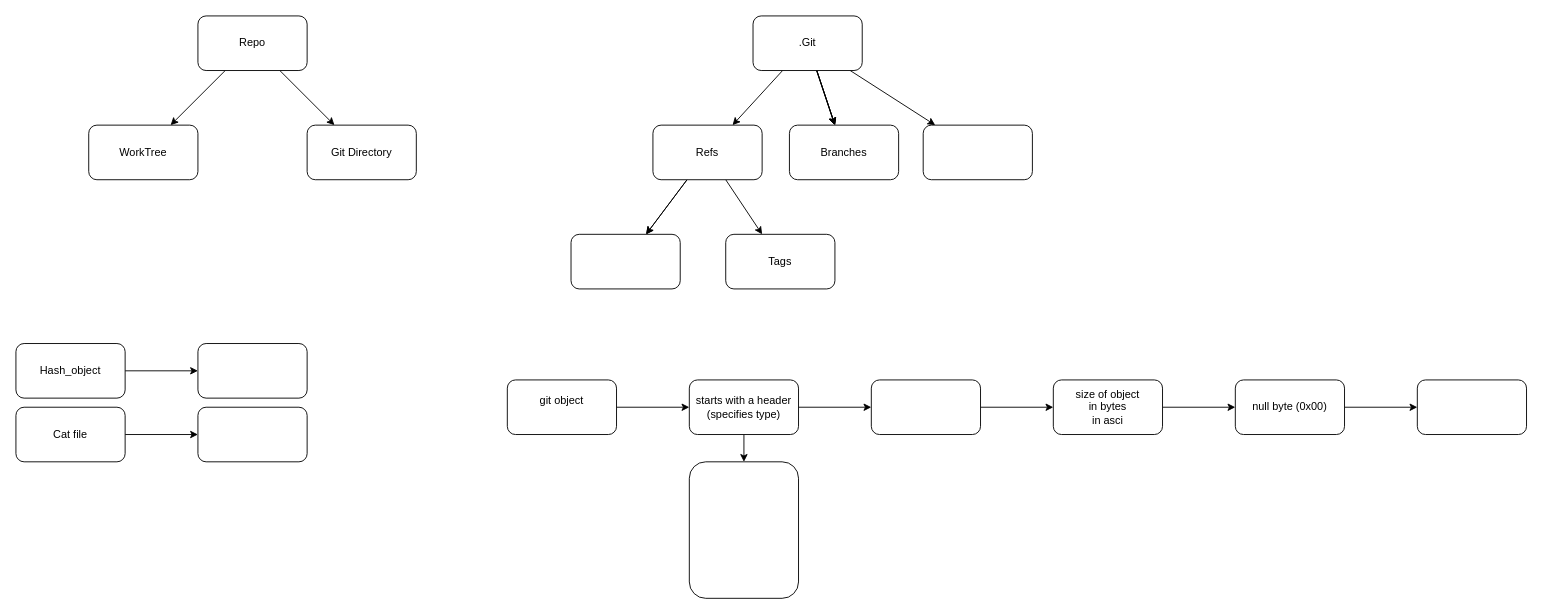
This 1542x614 diagram has some shape labels left out. The centre of each missing label's shape, as x and y in pixels:
"(Type) blob commit tag tree" goes at (743,529).
"contents of the object" goes at (1471,407).
"Heads" goes at (625,261).
"Makes a gitObject" goes at (252,370).
"Objects" goes at (977,152).
"prints the gitObjec" goes at (252,434).
"space( 0x20 )" goes at (925,407).
